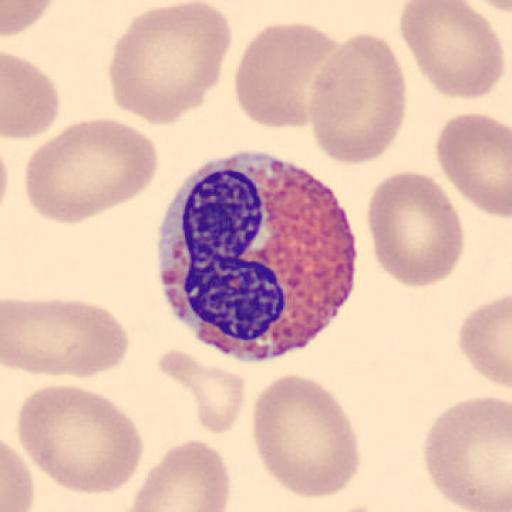RBC: (107, 1, 234, 126), (23, 118, 160, 225), (16, 383, 144, 496), (251, 372, 362, 500), (308, 33, 407, 166), (233, 21, 342, 130), (365, 169, 464, 289), (399, 0, 506, 100), (1, 296, 131, 378), (422, 393, 511, 512), (435, 111, 512, 220), (155, 346, 247, 435), (124, 437, 232, 512), (1, 296, 84, 377), (2, 51, 61, 141), (458, 292, 512, 388), (1, 438, 35, 512), (2, 0, 59, 38), (315, 503, 393, 512), (459, 0, 511, 11), (475, 0, 512, 13)
WBC: (156, 155, 358, 361)
